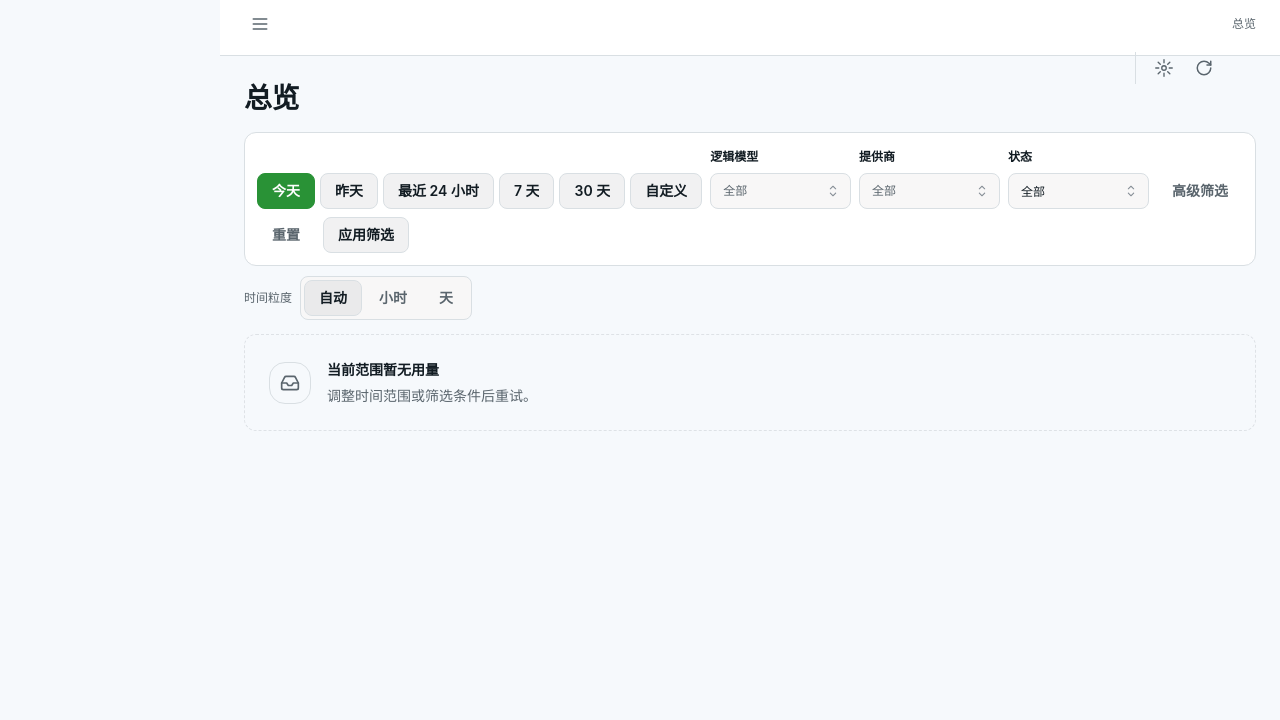
Test case: GatewayUsagePage mobile navigation › closes the drawer after navigation
This screenshot has width=1280, height=720.
Click the button named "打开导航".
click(260, 24)  # box left=244, top=8, right=276, bottom=40
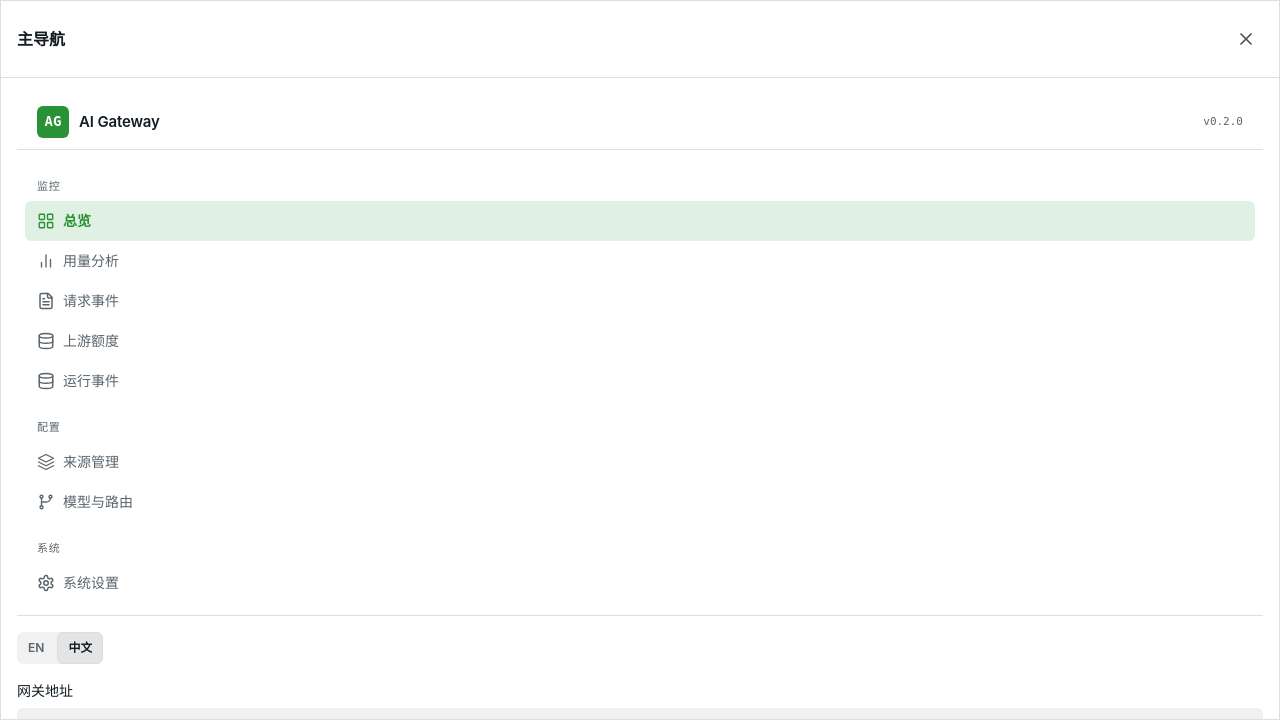
Click the button "用量分析".
click(91, 261)  # box left=25, top=241, right=1255, bottom=281
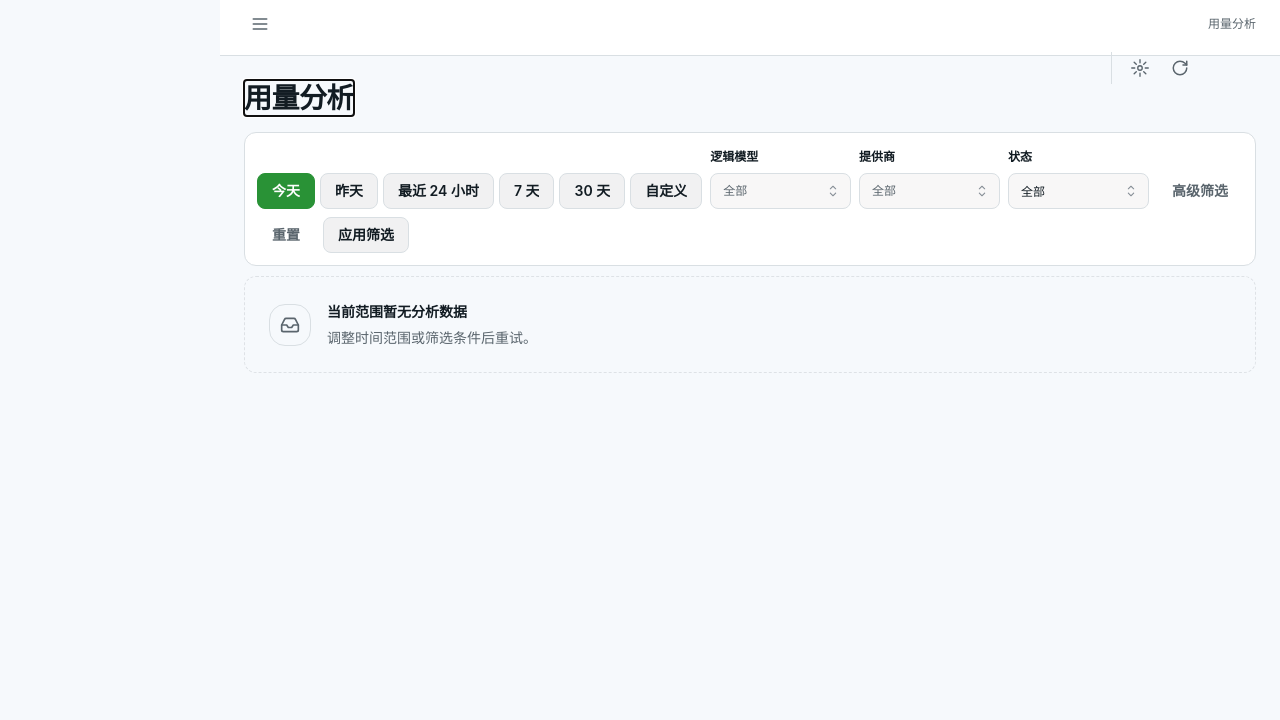
Expected: the dialog is gone
